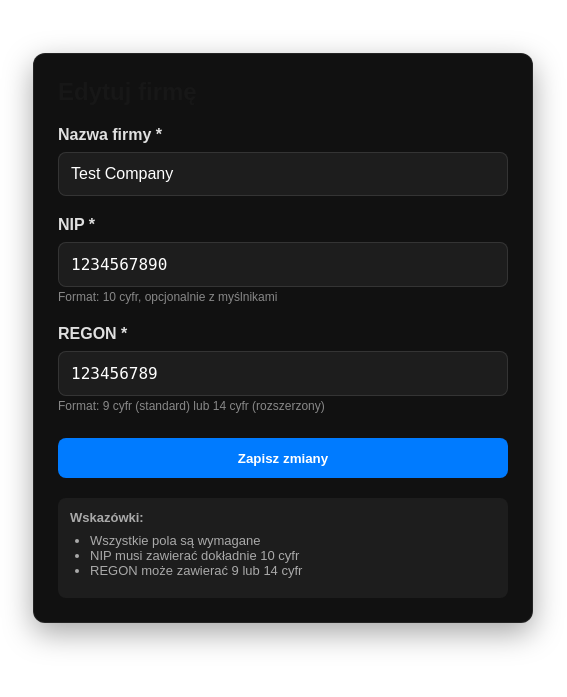
Scenario: EditCompanyForm › Walidacja formularza › powinien pokazać błąd gdy NIP ma nieprawidłowy format
Step 1. Replace the text in the field labelled "NIP *" with "123" → (283, 264), box 58,242 -> 508,287
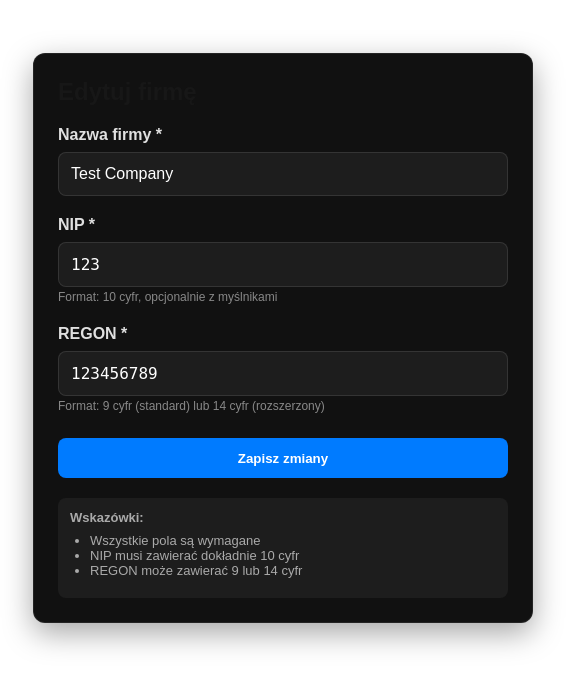
Step 2. Click the button "Zapisz zmiany" → (283, 458), box 58,438 -> 508,478
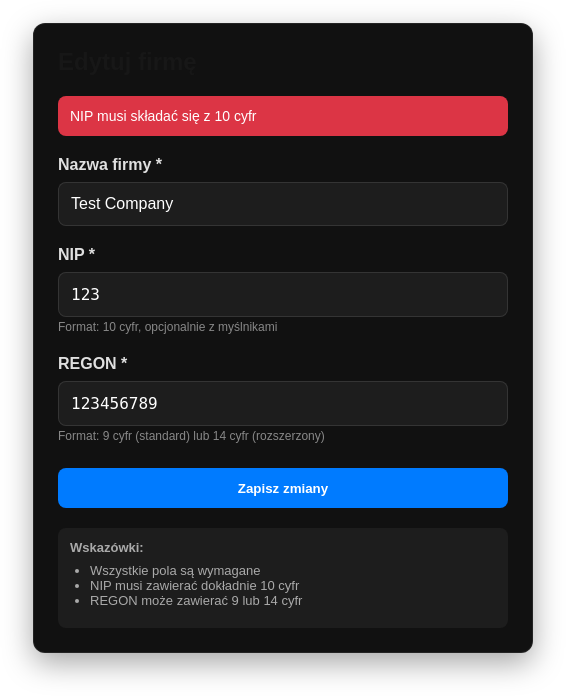
Expected: the text "NIP musi składać się z 10 cyfr" is shown, 58,96 -> 508,136
